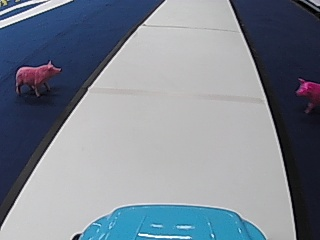pig: (13, 58, 61, 96), (292, 75, 320, 114)
